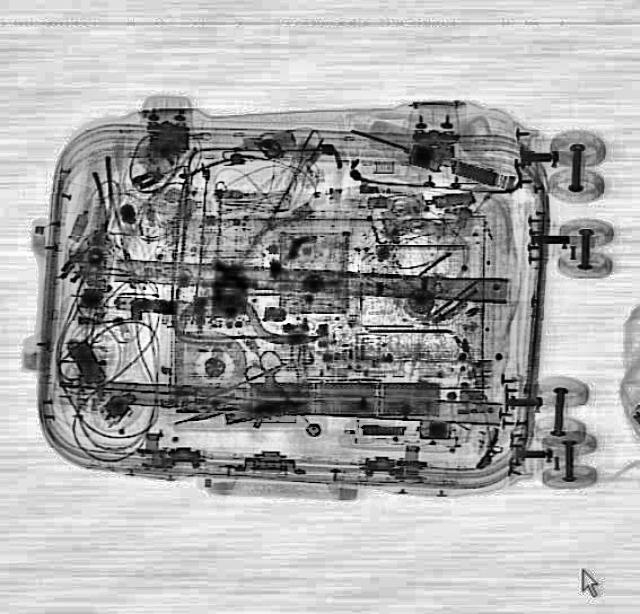Scissors: (234, 346, 328, 434)
